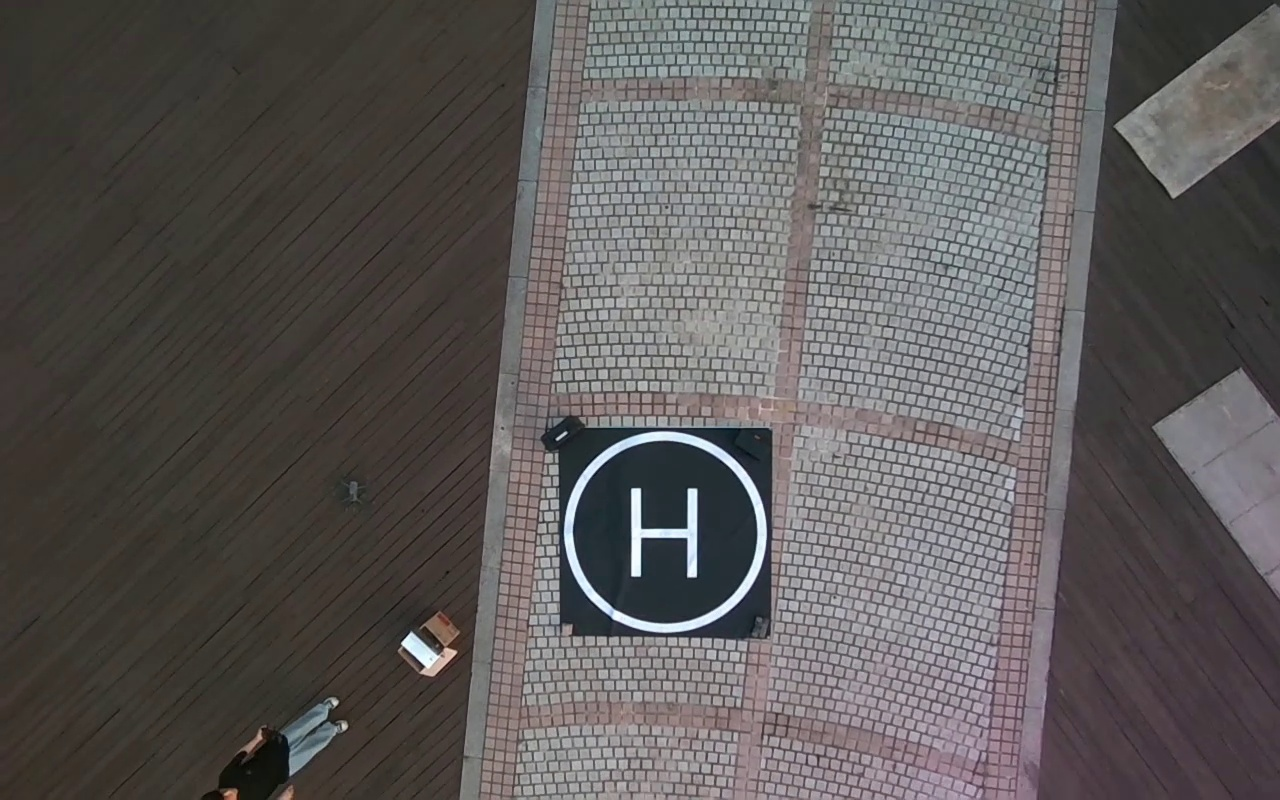H: (630, 485, 698, 577)
heliport: (565, 432, 769, 639)
